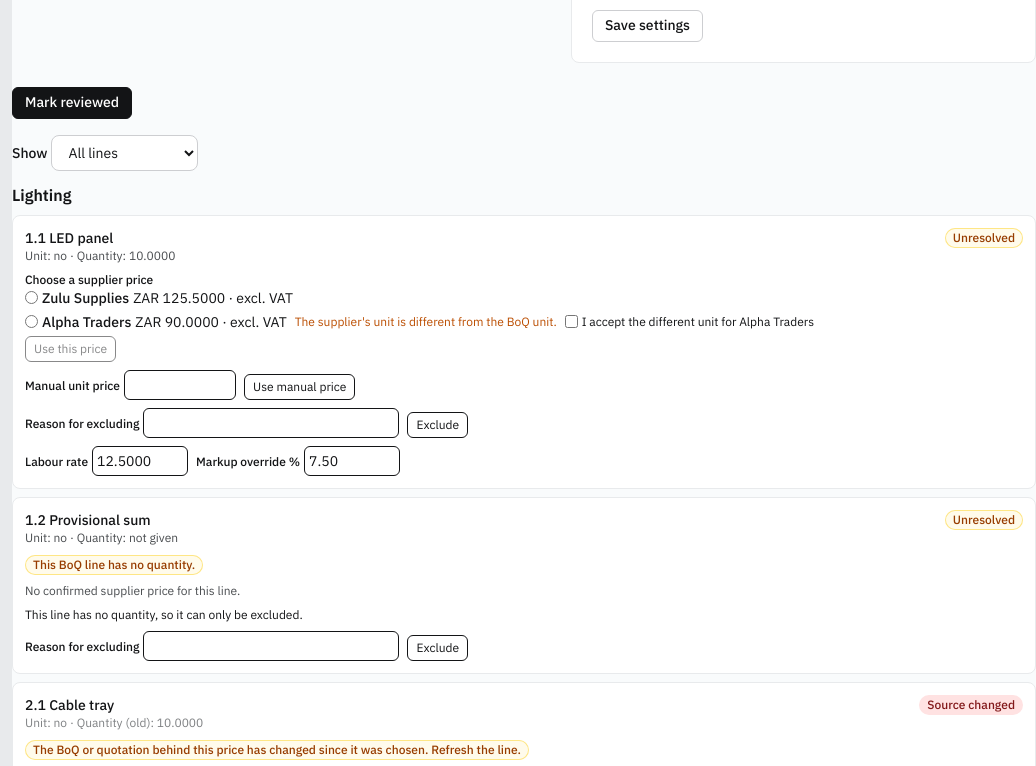
Test case: line controls › sends nothing for the invalid manual price abc
(page scrolled)
Expected: the text "1.1 LED panel" is shown, [25,228,113,248]
Type "abc" into the field labelled "Manual unit price" at (180, 384), box [124,370,236,400]
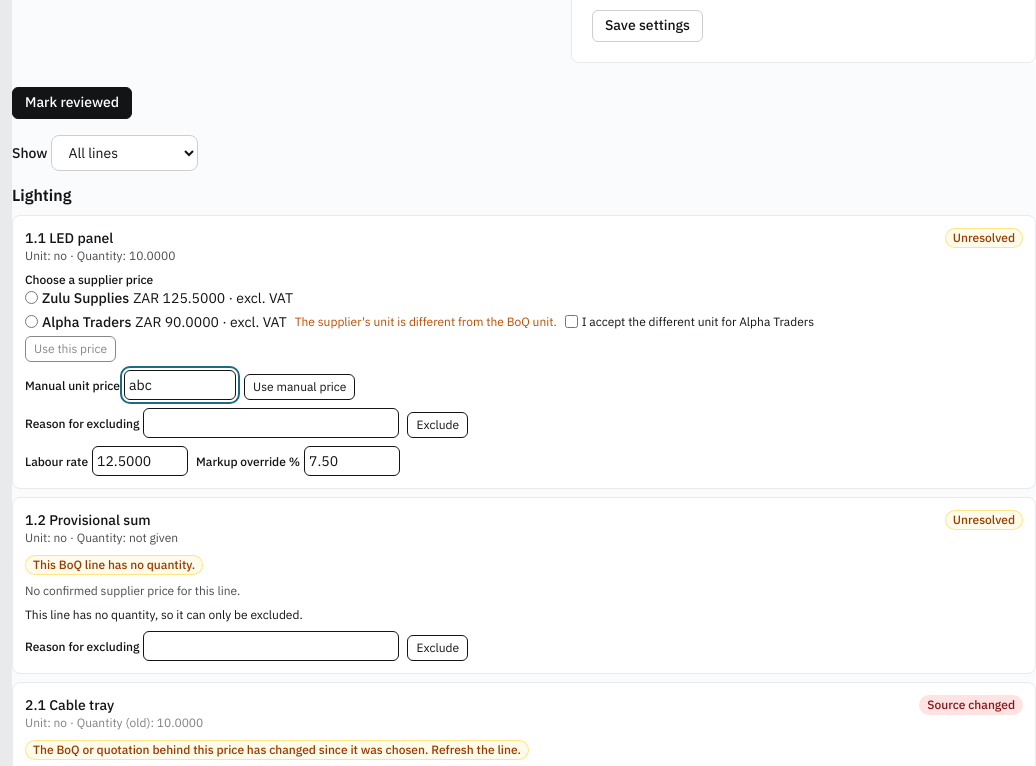
Click the button "Use manual price" at (300, 386), box [244,374,355,400]
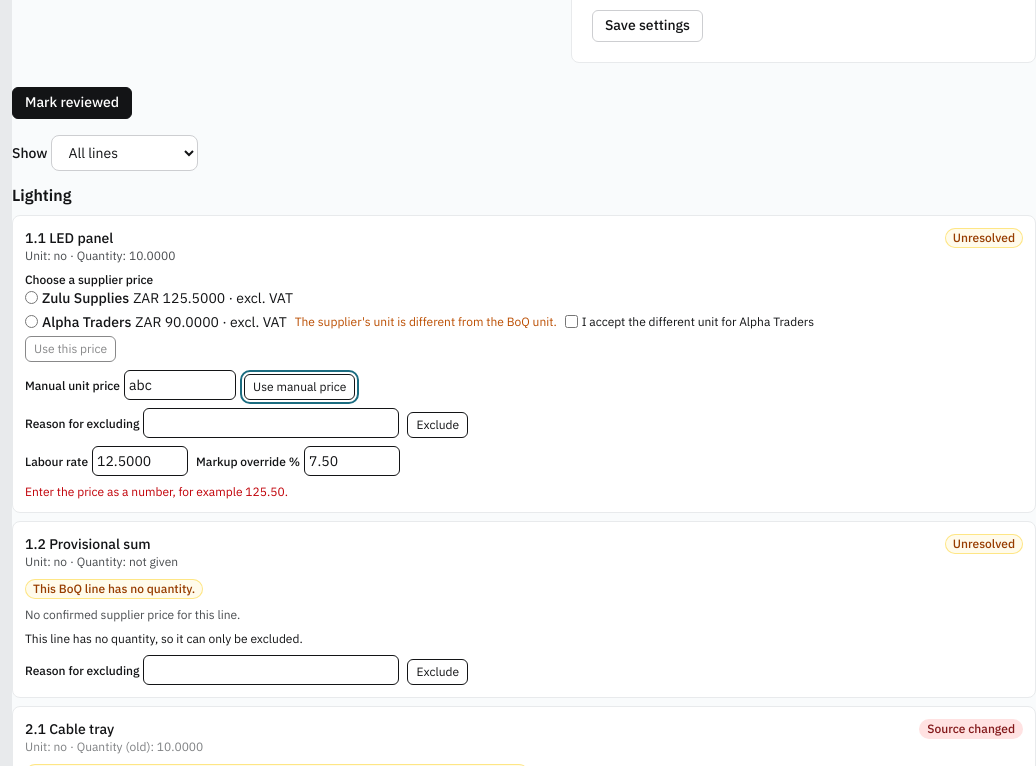
Expected: the message "Enter the price as a number, for example 125.50." is shown, [25,484,288,498]
